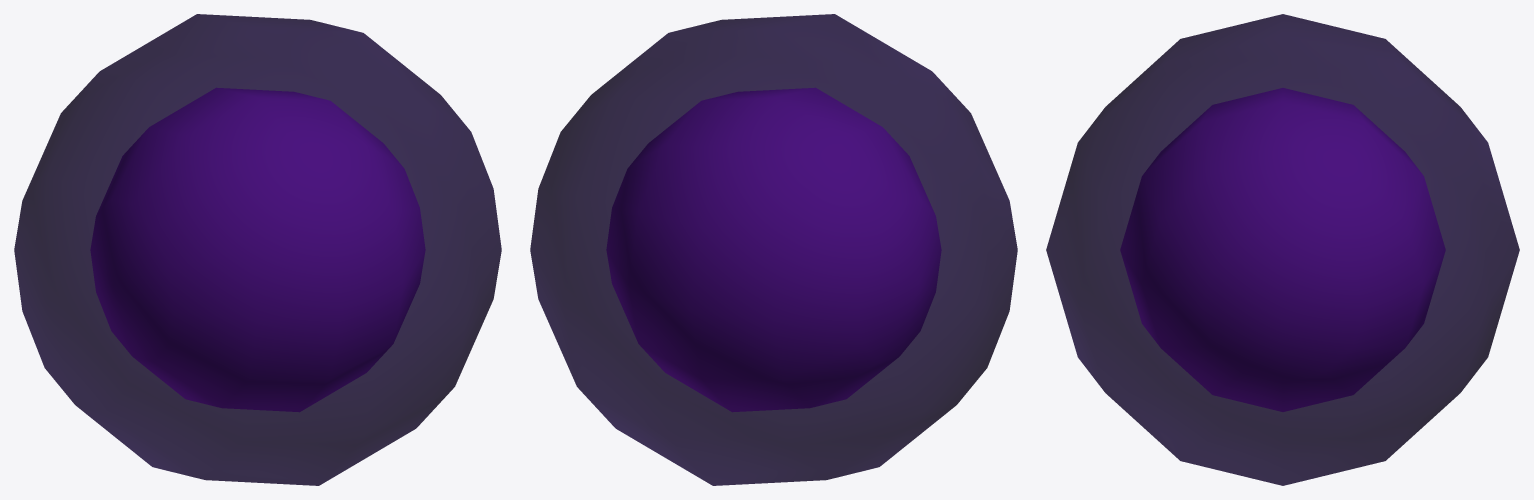
File: magicBall.FBX
The picture shows the model from 3 angles, left to right: view 1: azimuth 30°, elevation 25°; view 2: azimuth 150°, elevation 25°; view 3: azimuth 270°, elevation 25°; orthographic projection. The views are drawn at different scales.
Visible parts, largest first — view 1: Sphere001; view 2: Sphere001; view 3: Sphere001.
Boxes of the visible parts, x1,y1,x2,y2 form: Sphere001: (14, 14, 501, 485); Sphere001: (530, 14, 1017, 485); Sphere001: (1046, 14, 1519, 485).
Size of the model in its own units: 151 by 151 by 151.
